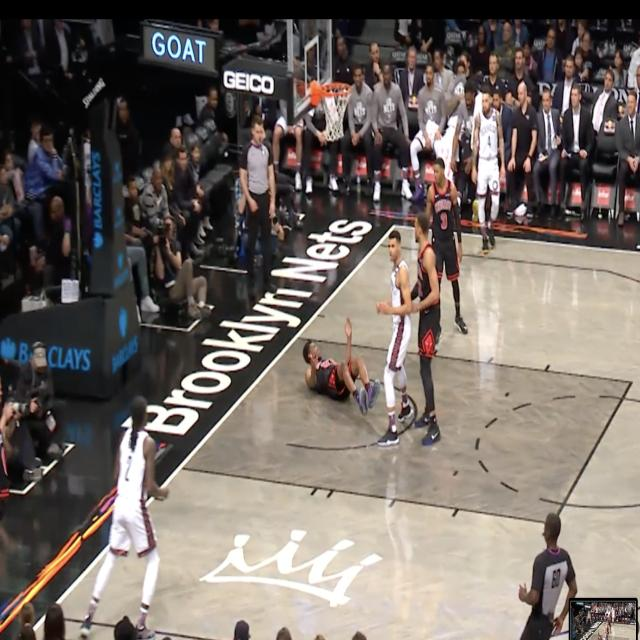foul: (288, 200, 465, 463)
